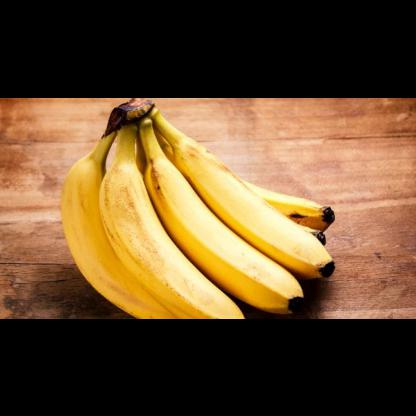banana: (136, 102, 304, 314), (140, 100, 334, 278), (100, 102, 244, 318), (60, 106, 178, 317)
